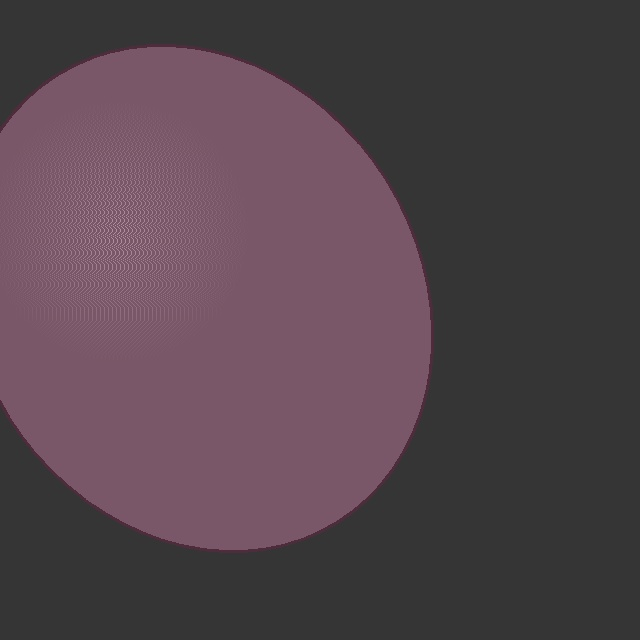lens: (0, 45, 431, 551)
